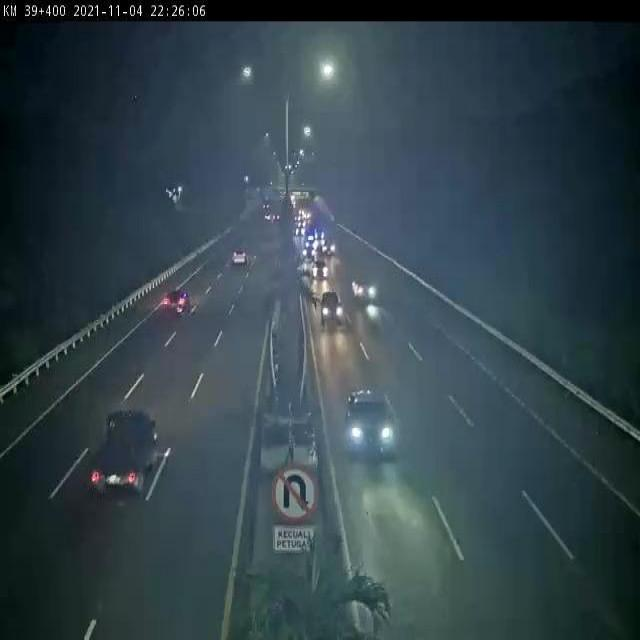car: (336, 384, 403, 468), (320, 294, 348, 326), (162, 291, 189, 321), (351, 280, 382, 303), (312, 260, 335, 288), (228, 247, 253, 272)
truck-s-: (80, 405, 171, 500)
